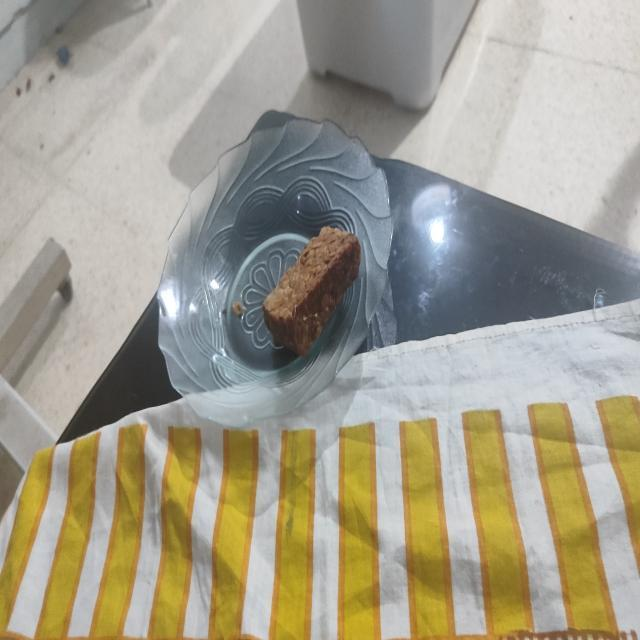tempe_goreng: (262, 227, 360, 356)
